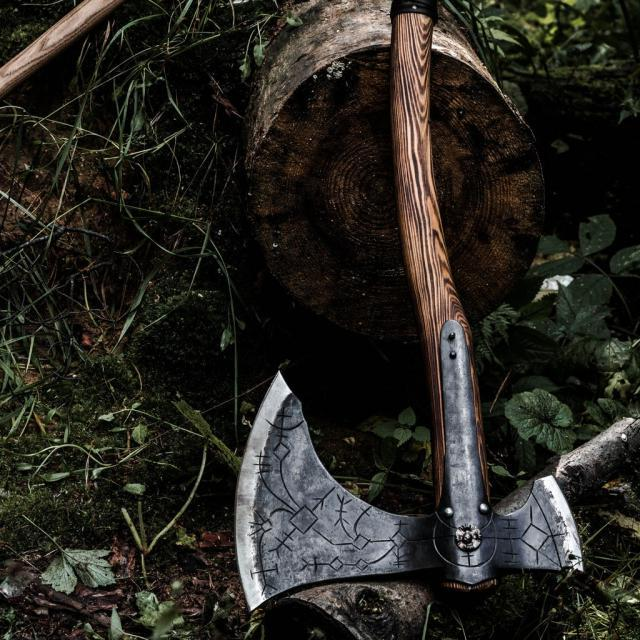axe: (229, 1, 587, 614)
